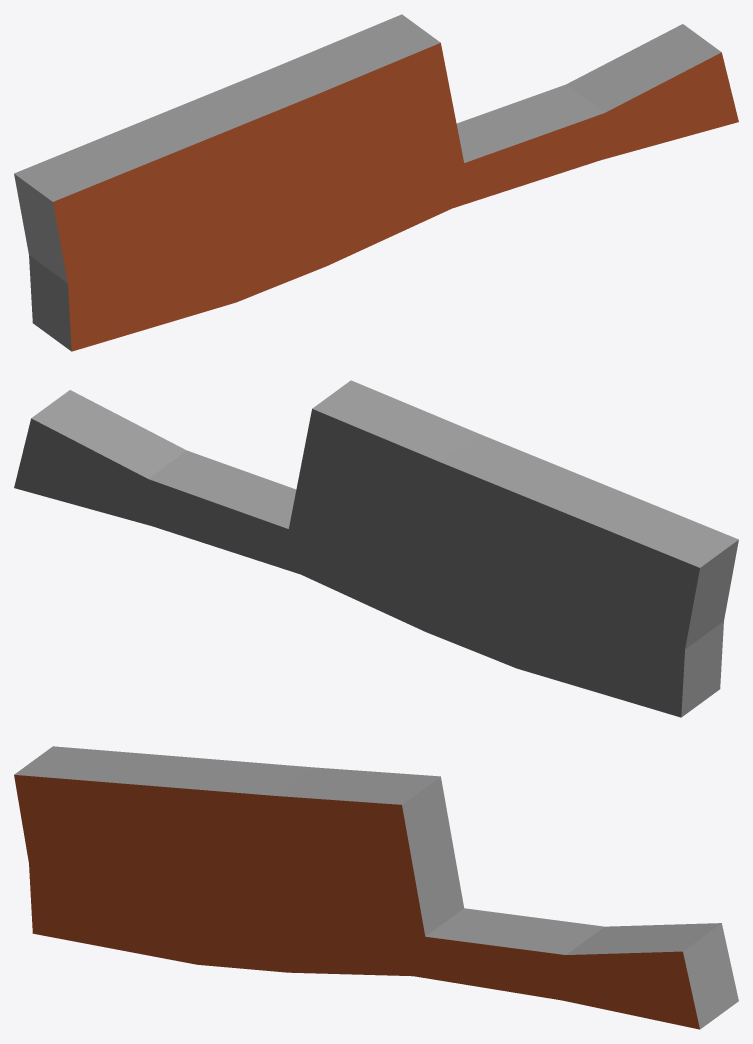
File: construction_4581_assumed_A_Casa_h6m.obj
The picture shows the model from 3 angles, top to bottom: view 1: azimuth 30°, elevation 25°; view 2: azimuth 150°, elevation 25°; view 3: azimuth 330°, elevation 25°; orthographic projection.
Visible parts, largest first — view 1: construction_4581_assumed_A_Casa; view 2: construction_4581_assumed_A_Casa; view 3: construction_4581_assumed_A_Casa.
Part boxes in pixels (bbox=[...]): construction_4581_assumed_A_Casa: bbox=[14, 14, 738, 351]; construction_4581_assumed_A_Casa: bbox=[14, 380, 738, 717]; construction_4581_assumed_A_Casa: bbox=[14, 746, 738, 1029].
Size of the model in its own units: 61.08 by 18.62 by 6.
